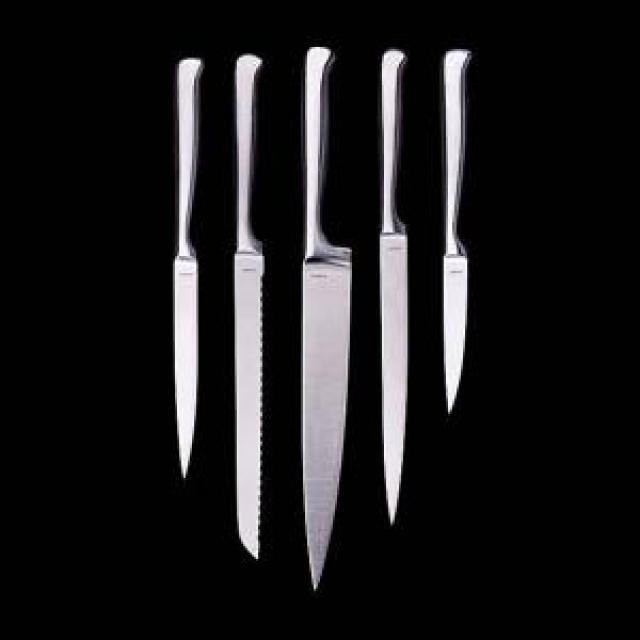knife: (288, 43, 356, 595), (230, 53, 272, 558), (166, 56, 209, 481), (380, 51, 414, 529), (435, 43, 472, 416)
